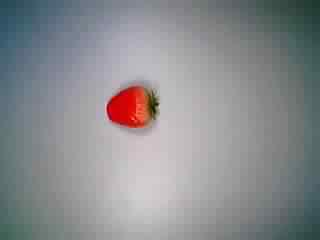strawberry: (96, 80, 162, 142)
